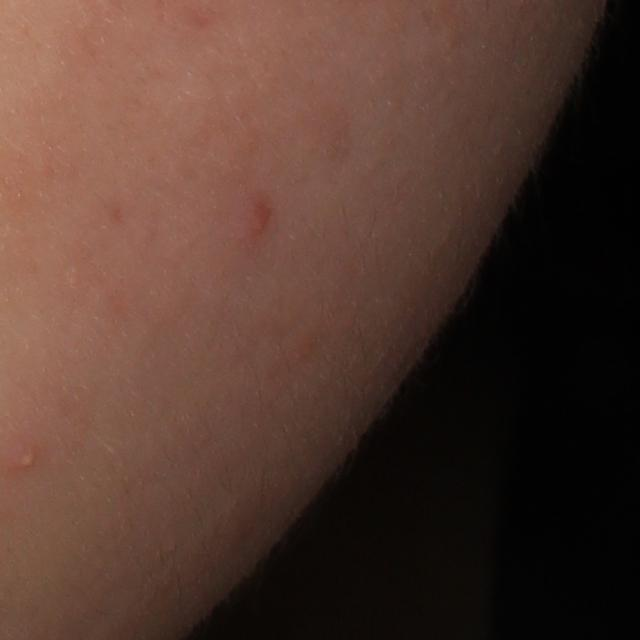papule: (245, 202, 273, 240)
pustule: (9, 443, 44, 477)
